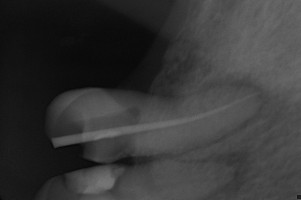Furcation Involvement: (198, 70, 270, 139), (204, 151, 259, 200)
